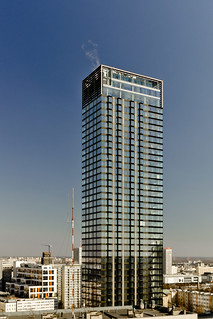low: (79, 63, 167, 317)
